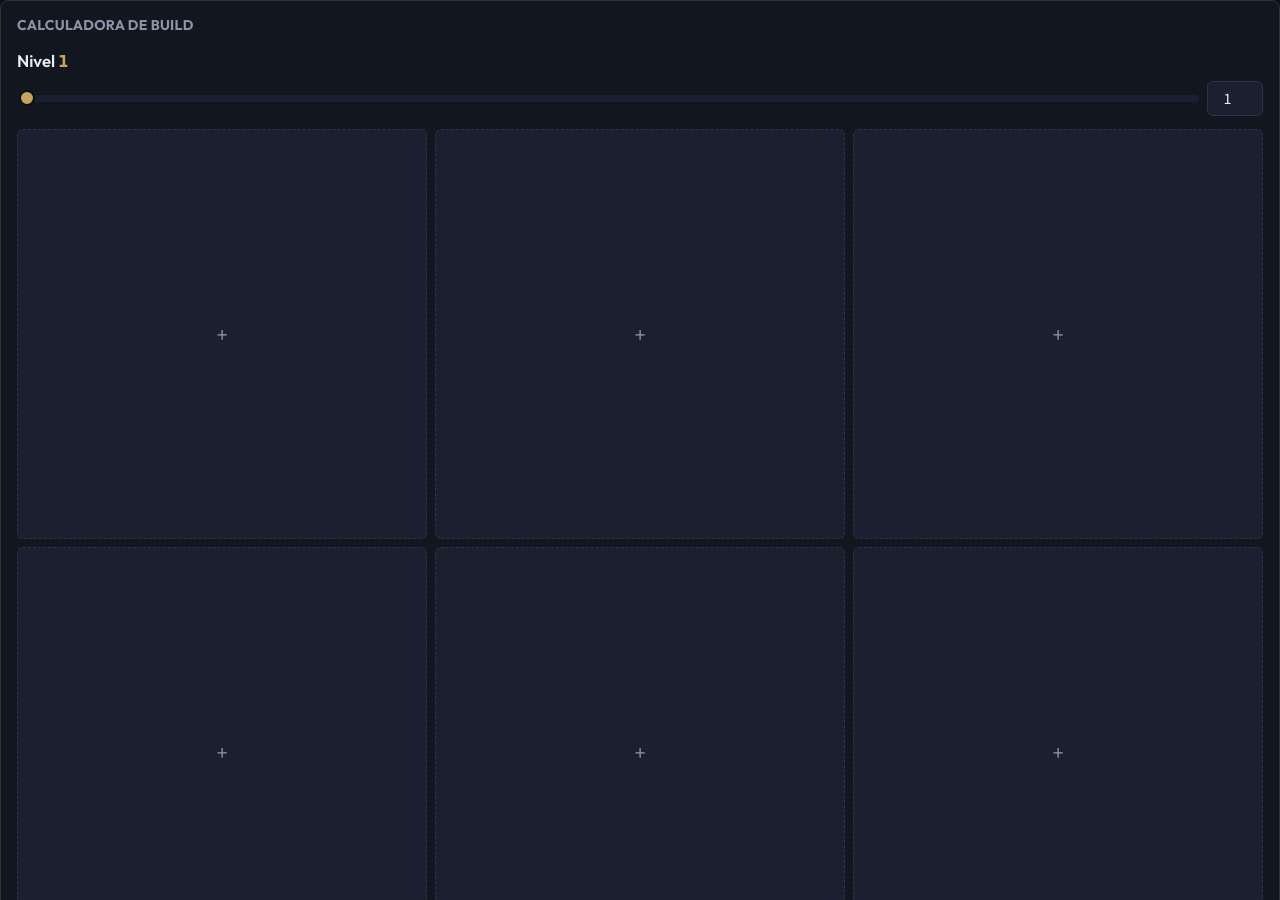
Scenario: BuildCalculator › abre el selector al hacer clic en una ranura vacía
Expected: the text "1" is shown, [58, 50, 68, 71]
Click the button with test id "build-slot-0": (222, 334) [17, 129, 427, 539]
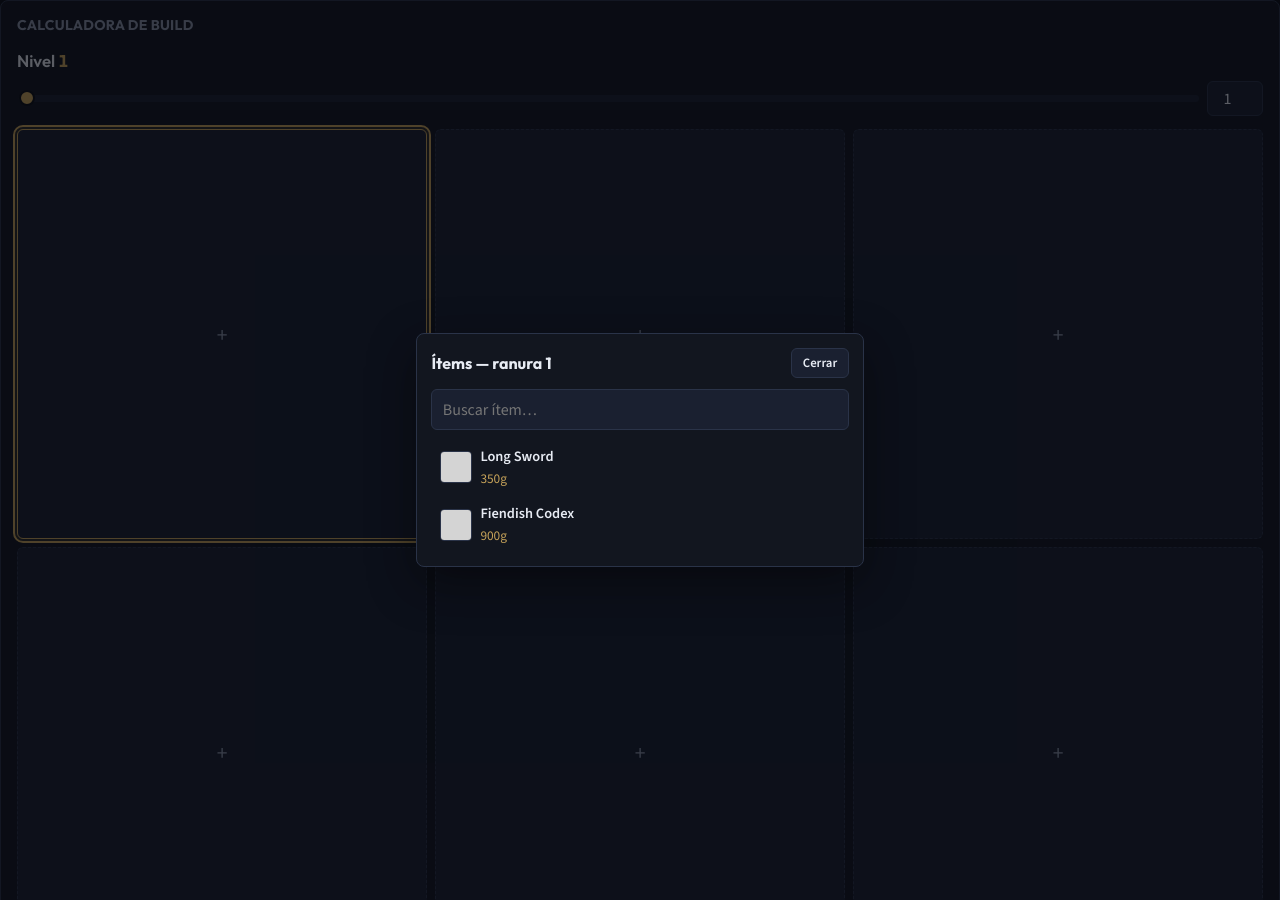
Expected: the dialog with test id "item-picker" is shown
Expected: the text "Long Sword" is shown, [480, 447, 554, 466]
